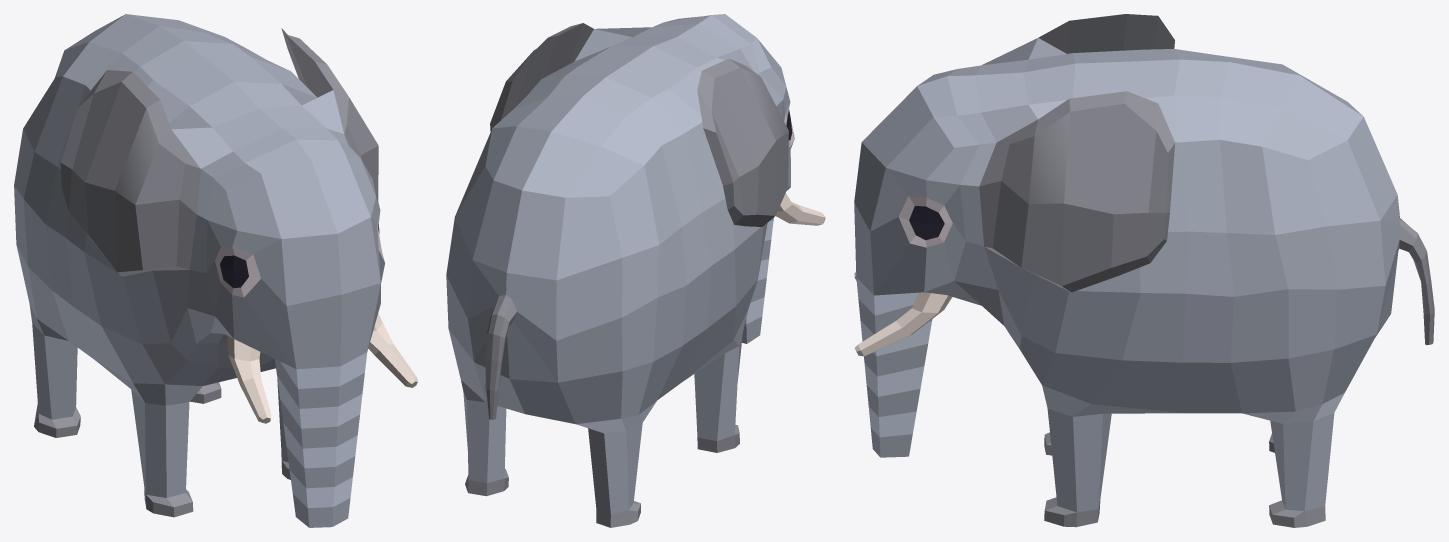
Rendered from elephant4.glb.
3 renders of one model, left to right at view 1: azimuth 30°, elevation 25°; view 2: azimuth 150°, elevation 25°; view 3: azimuth 270°, elevation 25°, orthographic. The views are drawn at different scales.
Visible parts, largest first — view 1: Cube; view 2: Cube; view 3: Cube.
Part boxes in pixels (x1,y1,x2,y2): Cube: [14, 14, 417, 527]; Cube: [446, 14, 825, 527]; Cube: [854, 14, 1434, 527].
Bounding box in the file's own units: 1.27 × 1.94 × 2.37.
